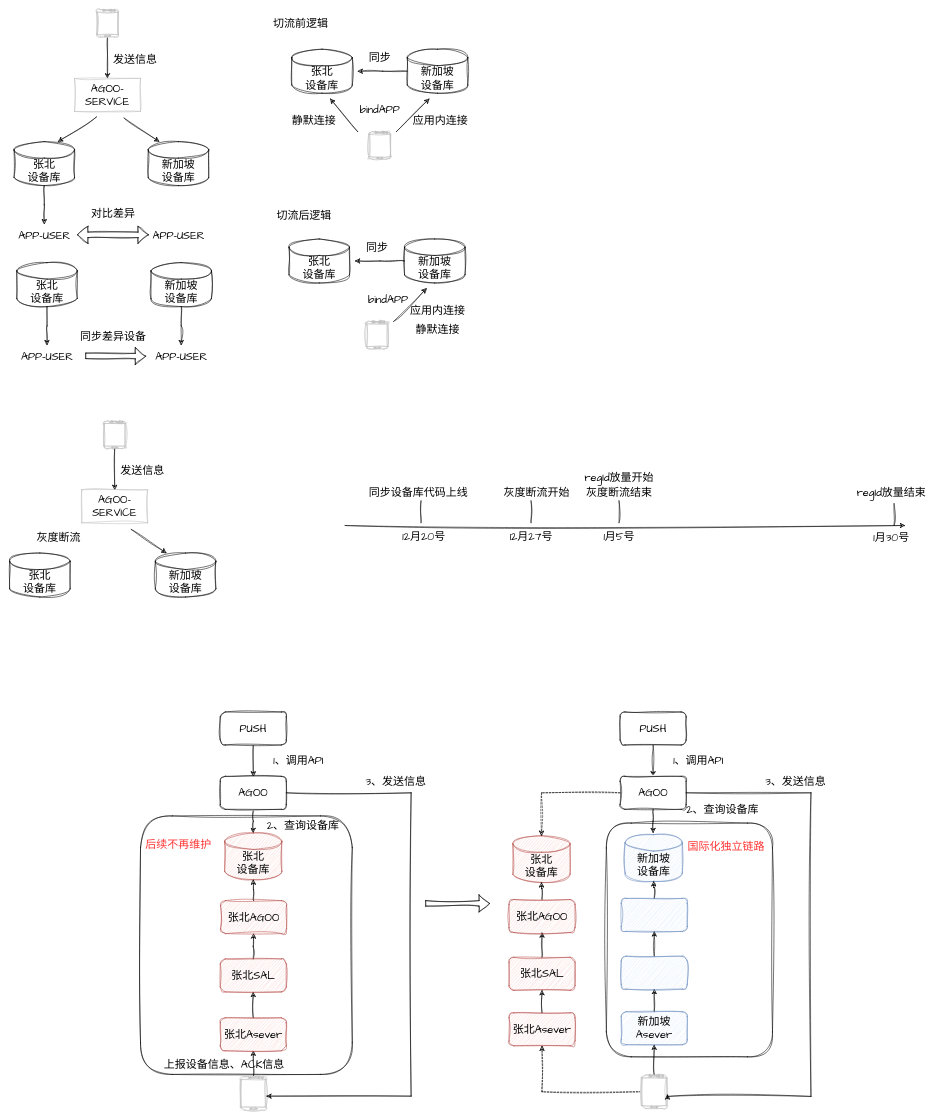
This 942x1120 diagram has some shape labels left out. The centre of each missing label's shape, as x and y in pixels:
"新加坡AGOO" goes at point 654,914.
"新加坡SAL" goes at point 654,972.
